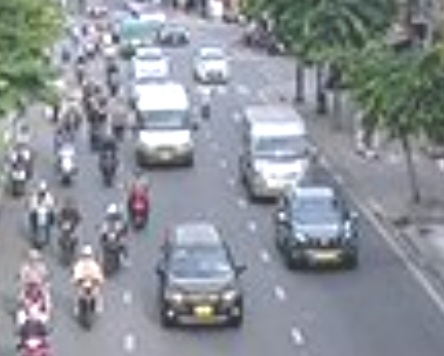car: (156, 223, 246, 331), (274, 183, 359, 270), (241, 106, 313, 202), (136, 87, 193, 167), (130, 46, 171, 84), (195, 47, 231, 85)
